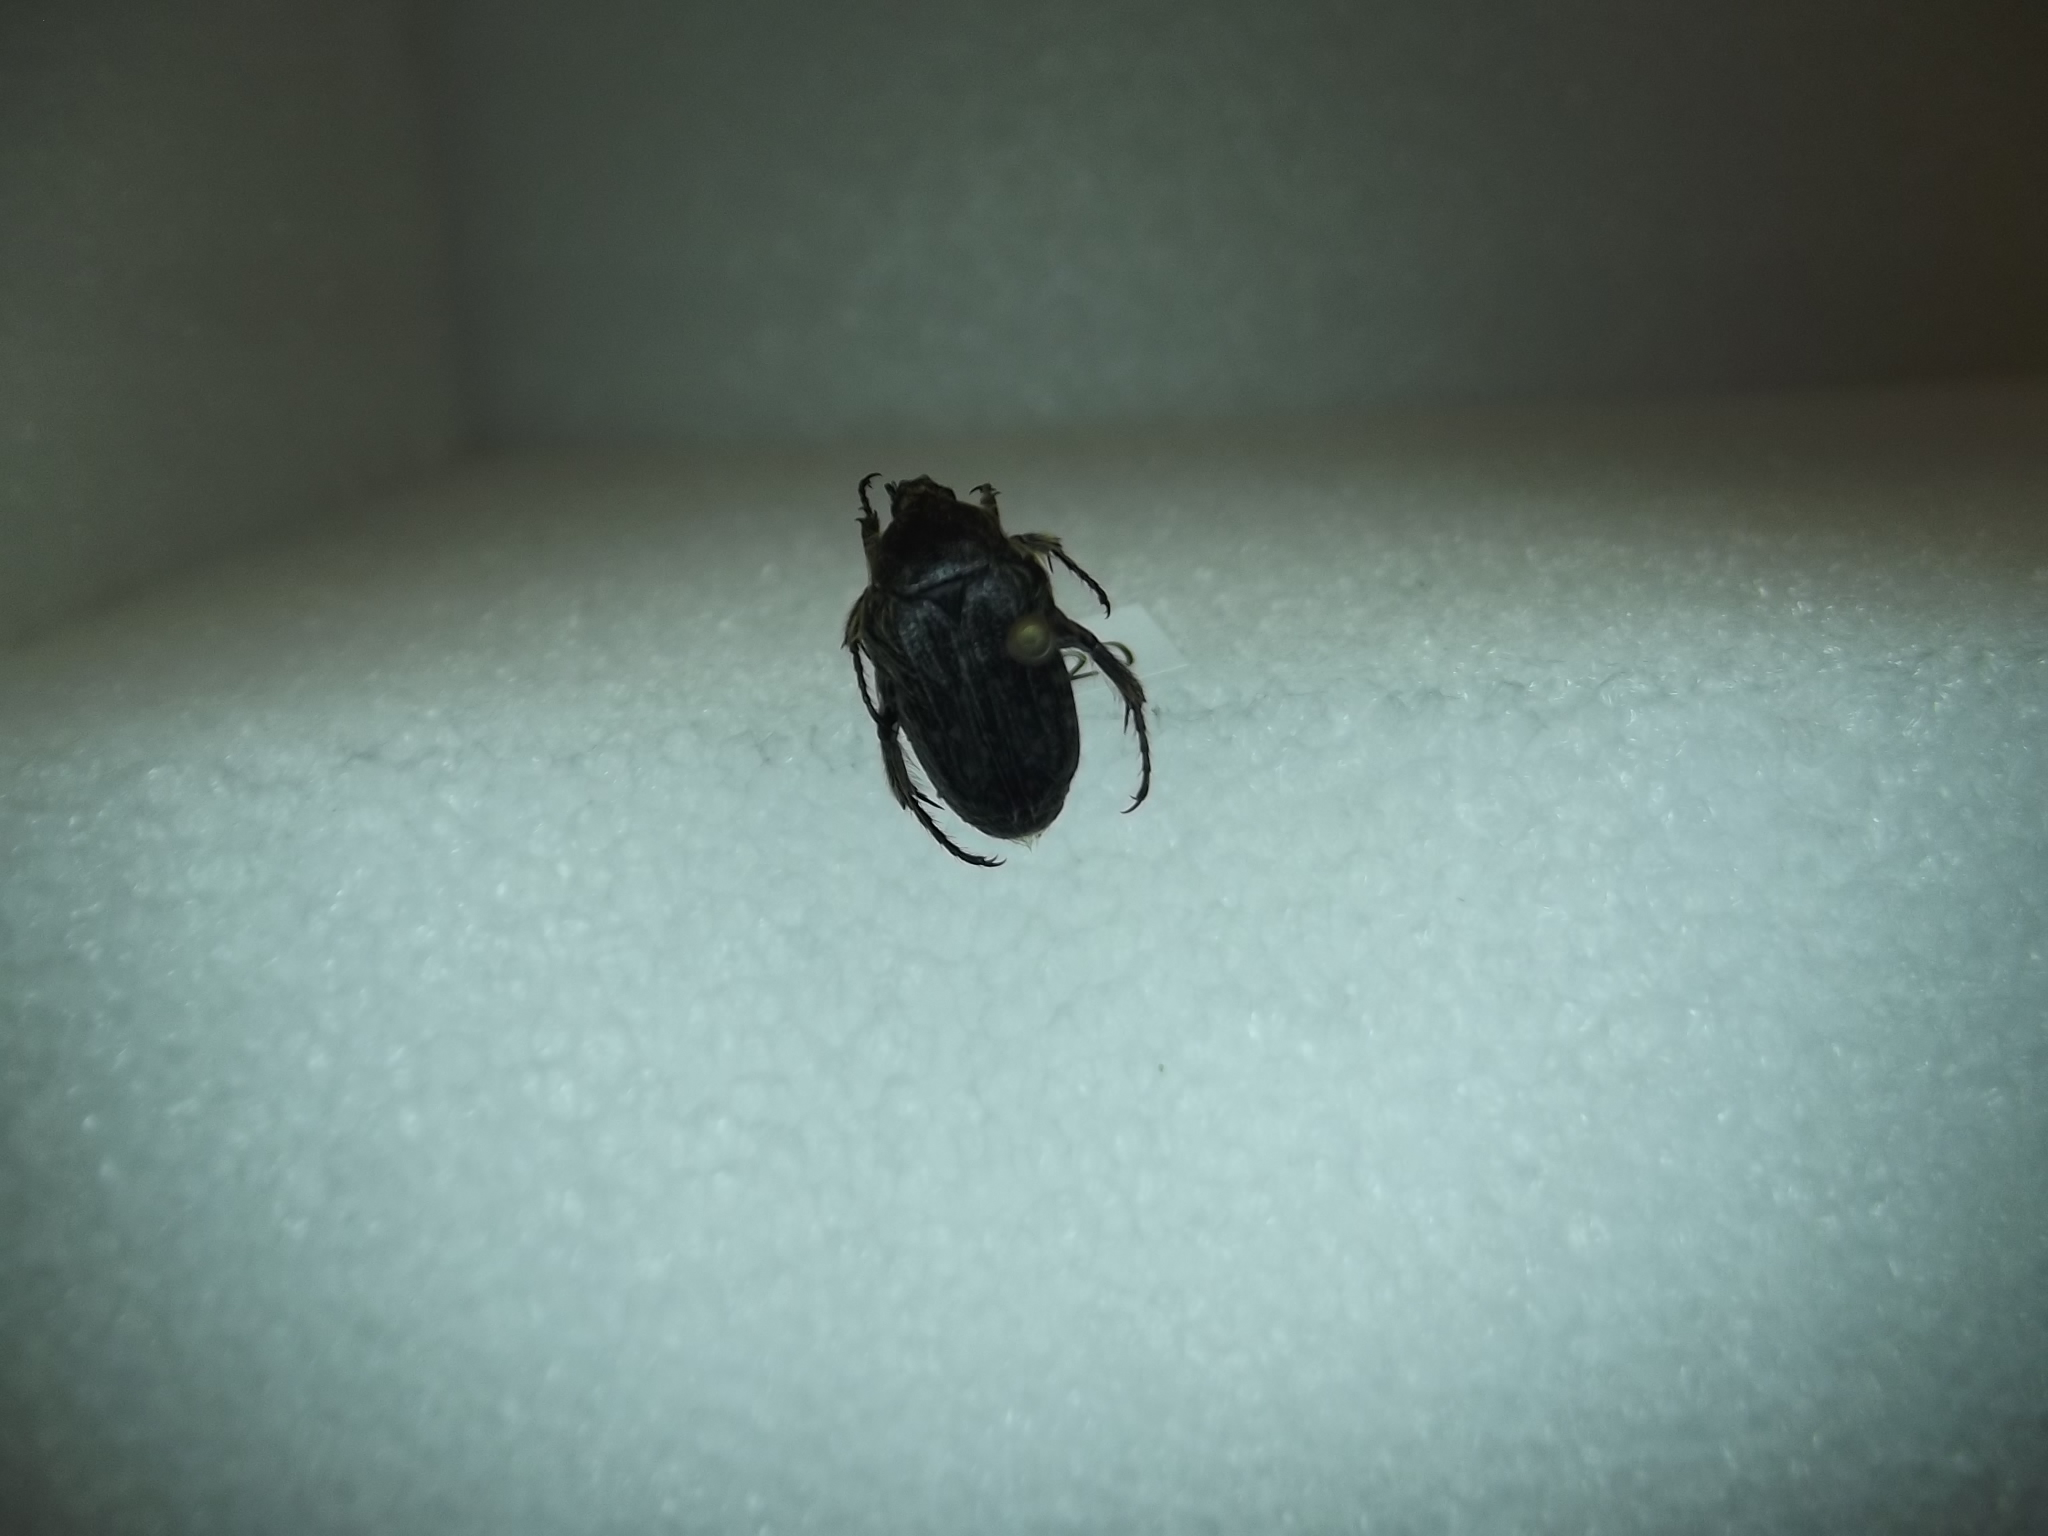Tropinota_senicula: (826, 445, 1180, 874)
